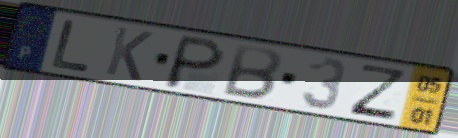3: (302, 56, 346, 112)
B: (219, 42, 285, 102)
K: (102, 24, 156, 84)
L: (49, 17, 94, 74)
P: (159, 33, 228, 92)
Z: (346, 62, 410, 123)
